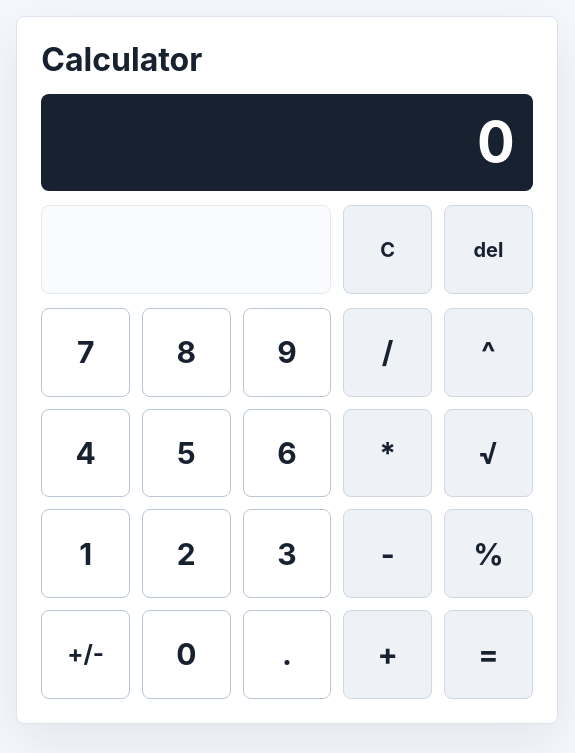
Test: Calculator › updates result when equals is clicked
Click the button "7" at (86, 352), box [41,308,130,397]
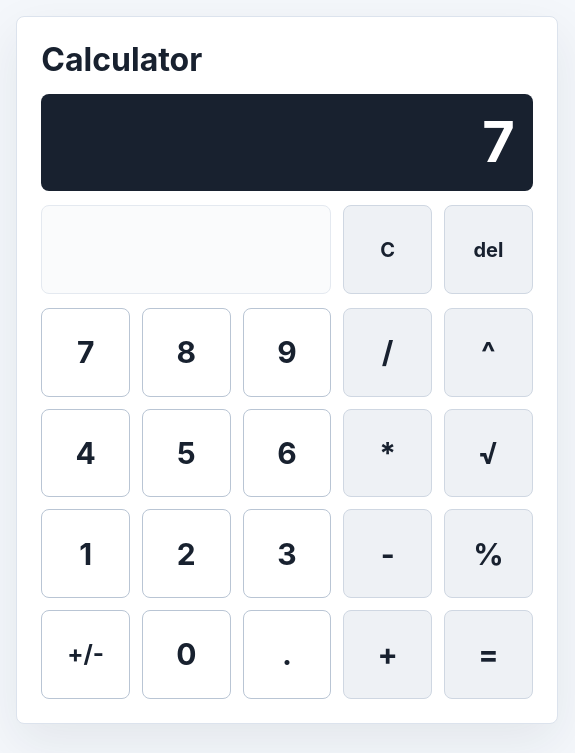
Click the button "+" at (388, 654), box [343,610,432,699]
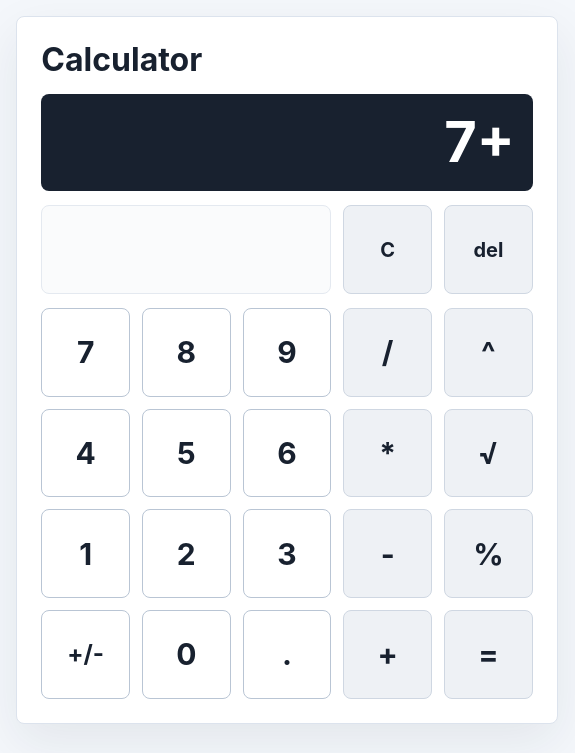
Click the button "8" at (186, 352), box [142,308,231,397]
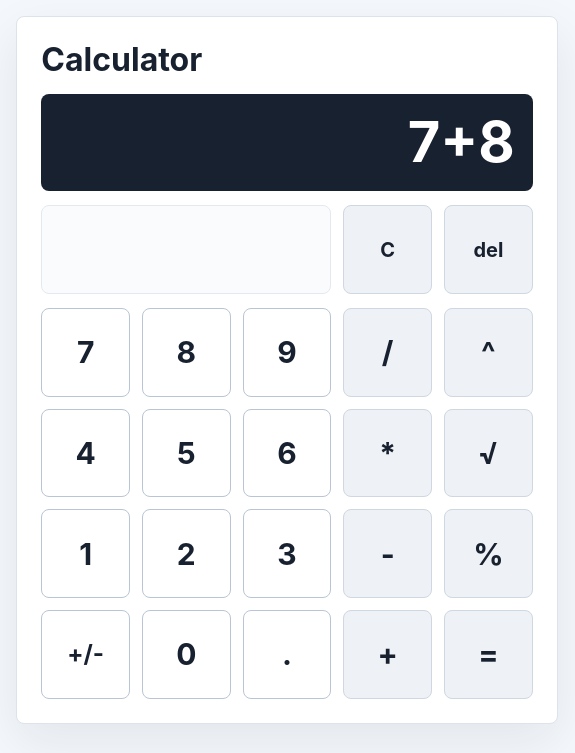
Click the button "=" at (488, 654), box [444,610,533,699]
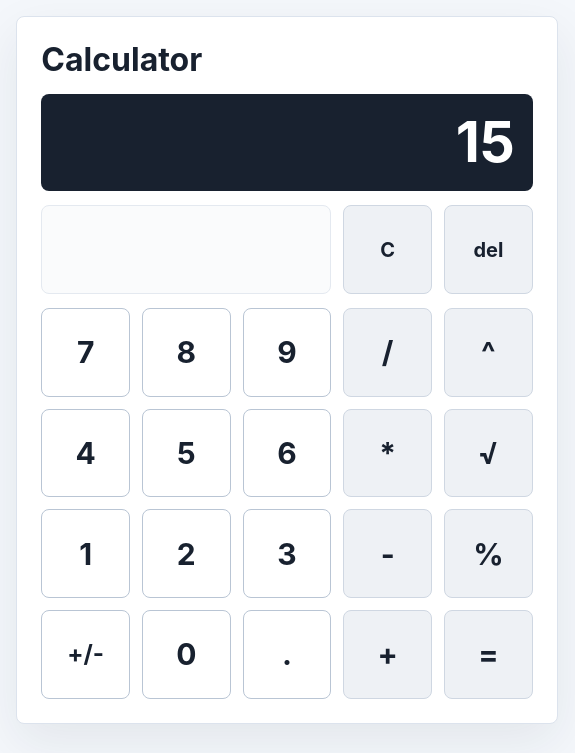
Expected: the message named "current input" reads "15", [456,108,515,176]
